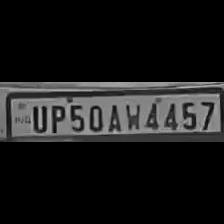0: (85, 101, 105, 131)
4: (142, 99, 160, 129), (160, 99, 178, 129)
5: (178, 98, 198, 130), (66, 102, 84, 132)
7: (198, 98, 216, 130)
A: (104, 100, 122, 132)
P: (47, 101, 65, 133)
U: (27, 102, 47, 132)
W: (122, 99, 140, 130)
